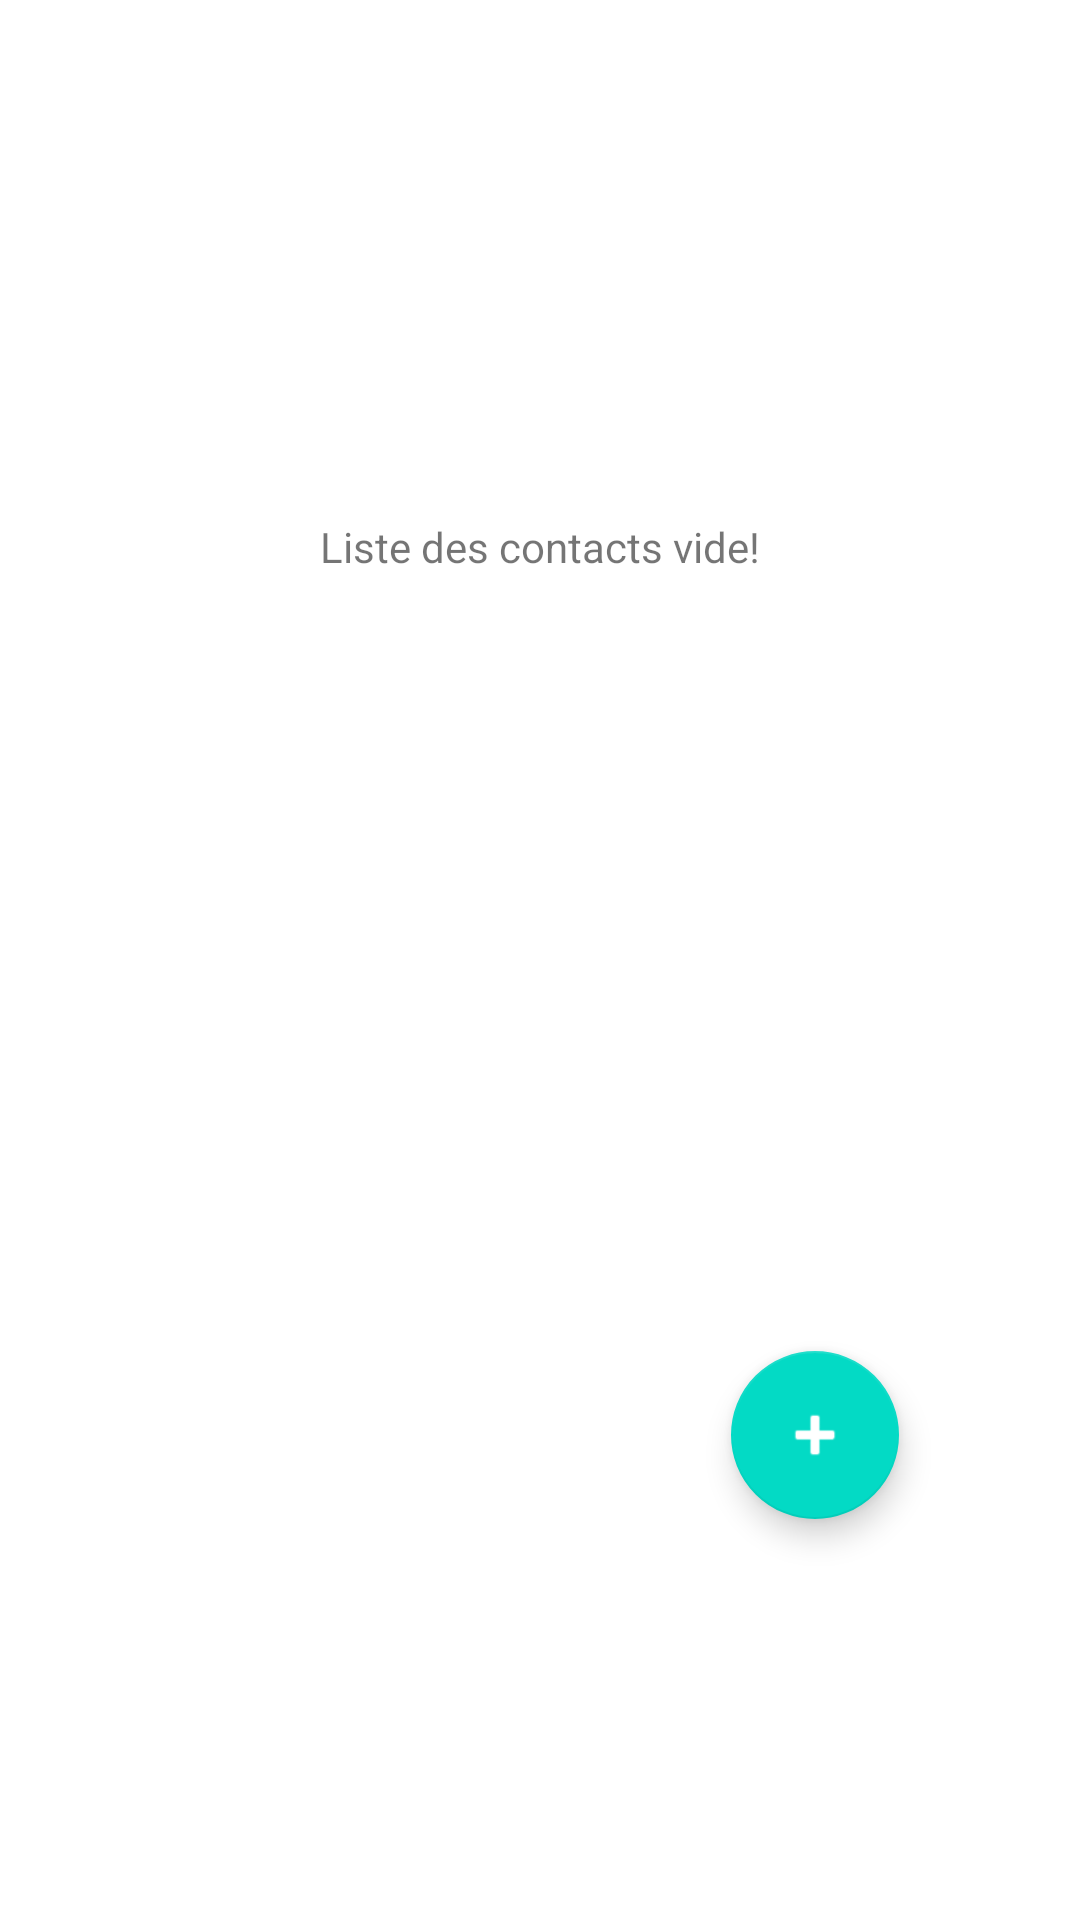

Named icons in this screenshot (1080*1920) and their centers, (x,y):
add: (815,1435)
